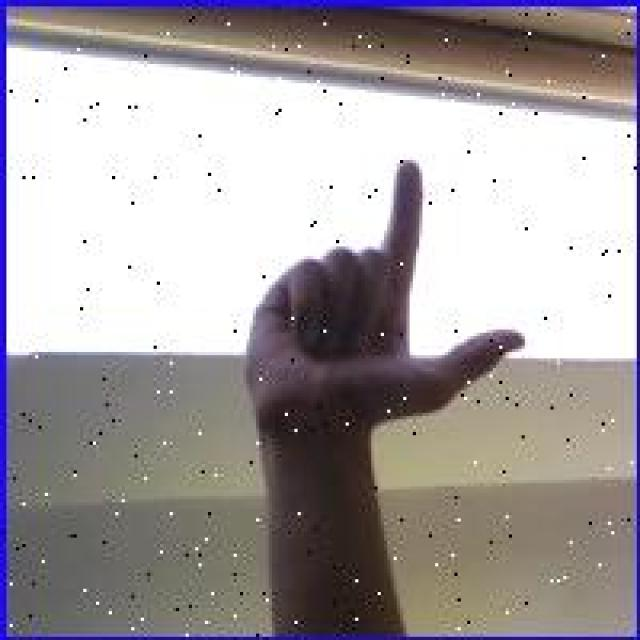L: (246, 149, 528, 494)
